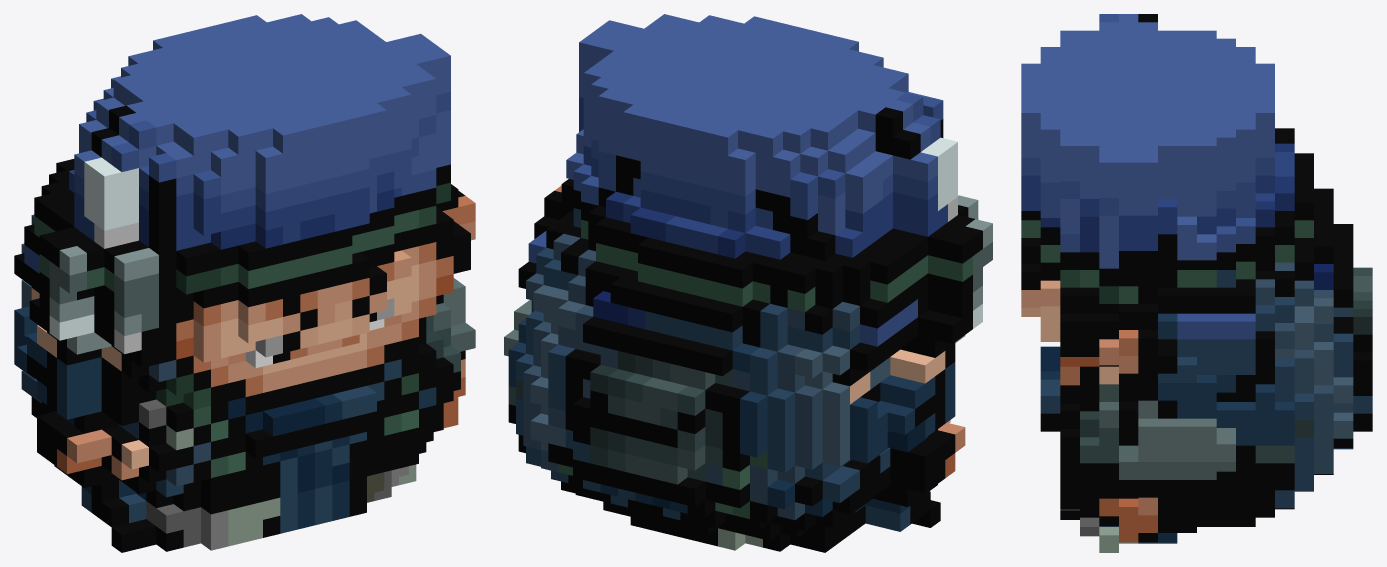
Rendered from Icon_203_02.obj.
The picture shows the model from 3 angles, left to right: view 1: azimuth 30°, elevation 25°; view 2: azimuth 150°, elevation 25°; view 3: azimuth 270°, elevation 25°; orthographic projection. The views are drawn at different scales.
Bounding box in the file's own units: 2.4 × 2.3 × 1.8.
Materials: 1 (1 with a texture image).
